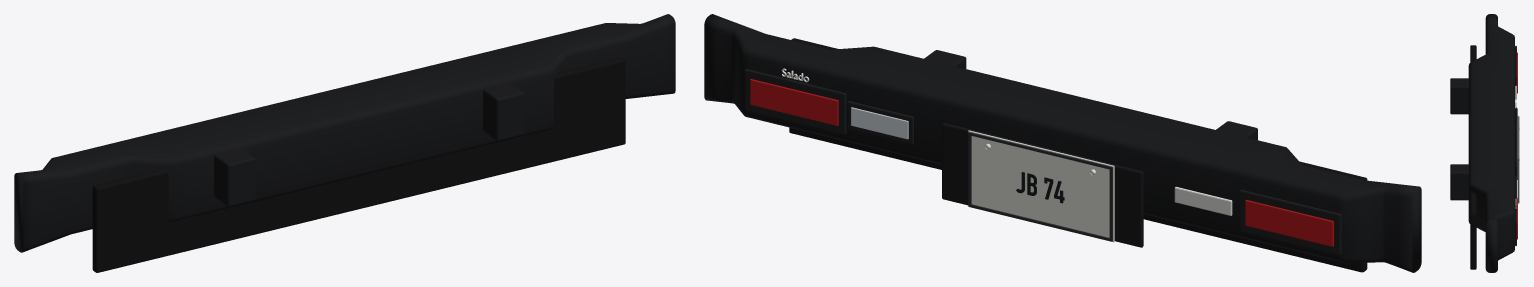
Rendered from rearBumper_urnieta_salado_rear.glb.
3 renders of one model, left to right at view 1: azimuth 30°, elevation 25°; view 2: azimuth 150°, elevation 25°; view 3: azimuth 270°, elevation 25°, orthographic. The views are drawn at different scales.
Visible parts, largest first — view 1: body.022, valance.038, mount1.038, mount-1.038; view 2: body.022, plate.045, platePanel, valance.038, lens-1.002, lens1.006, window1, window-1, auxLens, badge.007, aux, plateRim43_0 (+4 smaller); view 3: body.022, mount-1.038, mount1.038, valance.038, platePanel, plate.045, window-1, window1, plateRim43_3, plateRim43_0.
Part boxes in pixels (<box>): body.022: <box>14,14,675,252</box>; valance.038: <box>92,57,625,272</box>; mount1.038: <box>483,82,524,140</box>; mount-1.038: <box>214,148,255,206</box>; body.022: <box>704,14,1421,272</box>; plate.045: <box>968,130,1114,242</box>; platePanel: <box>942,123,1143,247</box>; valance.038: <box>789,38,1367,272</box>; lens-1.002: <box>1245,200,1333,246</box>; lens1.006: <box>750,79,838,125</box>; window1: <box>744,69,846,134</box>; window-1: <box>1239,189,1341,255</box>; auxLens: <box>851,107,908,139</box>; badge.007: <box>1174,186,1232,215</box>; aux: <box>847,101,913,144</box>; plateRim43_0: <box>969,132,1112,169</box>; body.022: <box>1468,14,1514,272</box>; mount-1.038: <box>1450,78,1468,114</box>; mount1.038: <box>1450,164,1468,200</box>; valance.038: <box>1470,45,1476,269</box>; platePanel: <box>1515,107,1517,179</box>; plate.045: <box>1517,115,1518,203</box>; window-1: <box>1515,46,1516,99</box>; window1: <box>1515,192,1516,245</box>; plateRim43_3: <box>1518,158,1519,203</box>; plateRim43_0: <box>1518,116,1519,158</box>.
Bounding box in the file's own units: 1.6 × 0.24 × 0.225.
